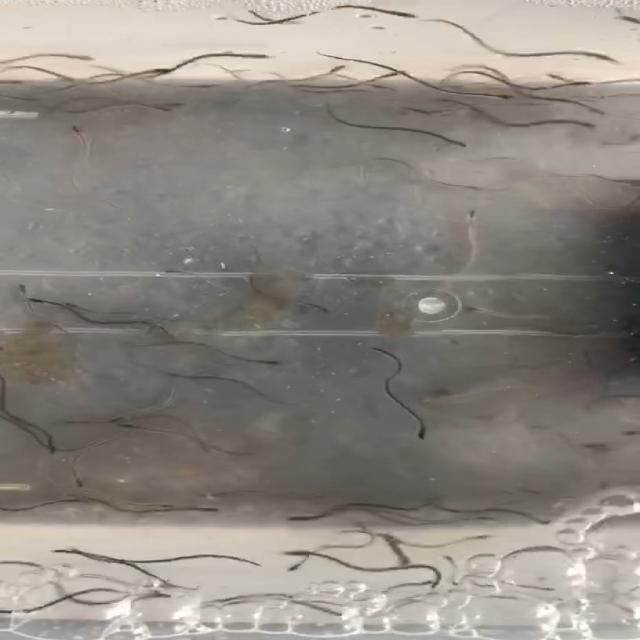active_glass_eel: (580, 50, 628, 71), (218, 49, 274, 65), (282, 509, 334, 526), (133, 65, 180, 81), (479, 88, 518, 107), (294, 298, 333, 316), (28, 294, 62, 312), (123, 588, 174, 600), (316, 62, 351, 79), (457, 207, 485, 228), (280, 543, 318, 558), (408, 423, 436, 443), (456, 529, 493, 544), (12, 283, 38, 303), (58, 299, 90, 315), (282, 556, 314, 572), (464, 302, 498, 317), (49, 545, 88, 558), (64, 124, 95, 140), (157, 96, 195, 109), (125, 502, 178, 511), (100, 410, 133, 424), (566, 122, 604, 134), (389, 11, 425, 23), (57, 52, 98, 62), (248, 357, 282, 369), (72, 471, 94, 489), (373, 69, 406, 81), (444, 134, 472, 148), (370, 81, 409, 91), (192, 505, 225, 516), (538, 72, 574, 82), (150, 100, 173, 115), (582, 104, 608, 117), (562, 80, 592, 91), (186, 82, 222, 91), (158, 267, 185, 278), (41, 438, 59, 454), (120, 420, 142, 433)
